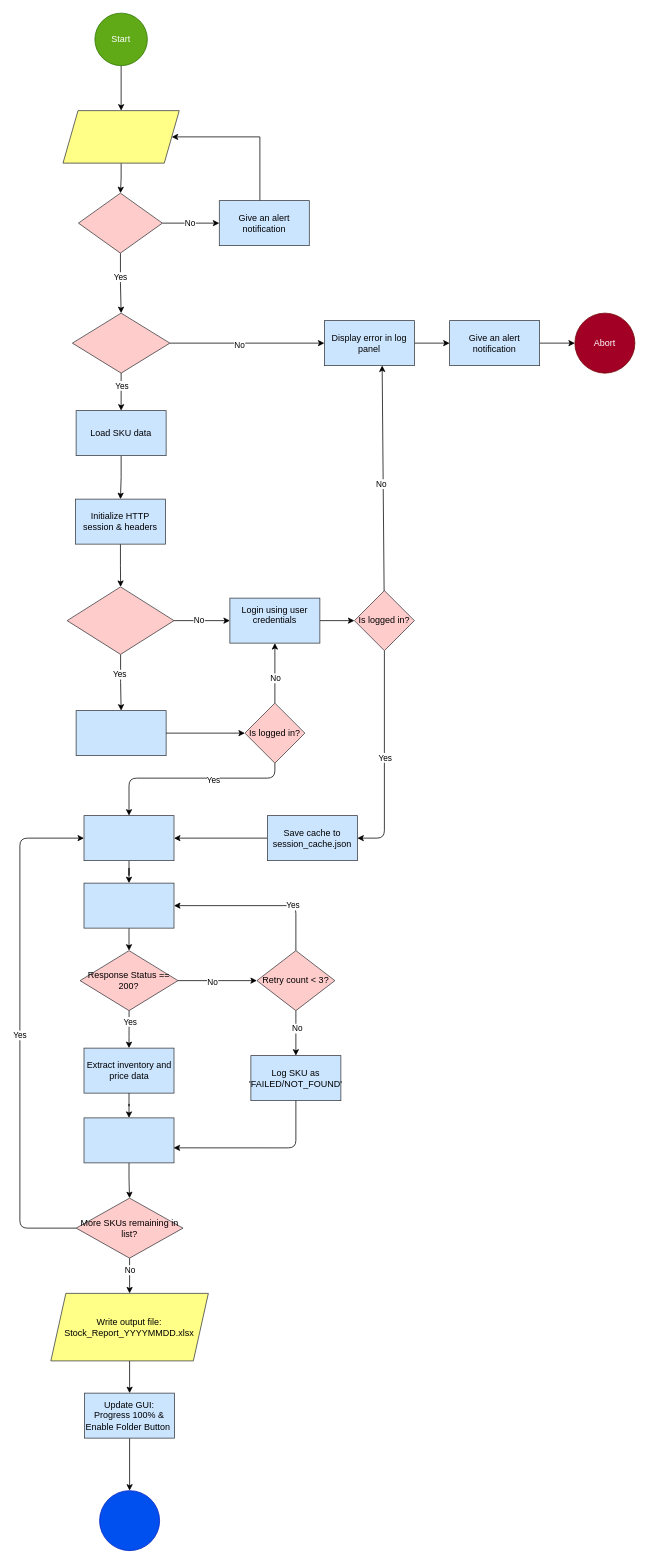
The diagram is 648 pixels wide and 1564 high, and some of its shapes have lost their labels. The shapes that lost their labels are listed below. From the top down, each one's centre as x and y in pixels, then its label:
At (120,136): "Select and Load Input Excel File".
At (120,222): "Is .xlsx path valid?".
At (121,342): "Is SKU column present?".
At (120,620): "Is there a session_cache.json file?".
At (120,733): "Try to login using cache".
At (128,838): "Fetch next SKU from list".
At (128,905): "Send GET/POST request with randomized 1-2.5s jitter".
At (128,1140): "Update GUI progress bar".
At (129,1520): "End".
